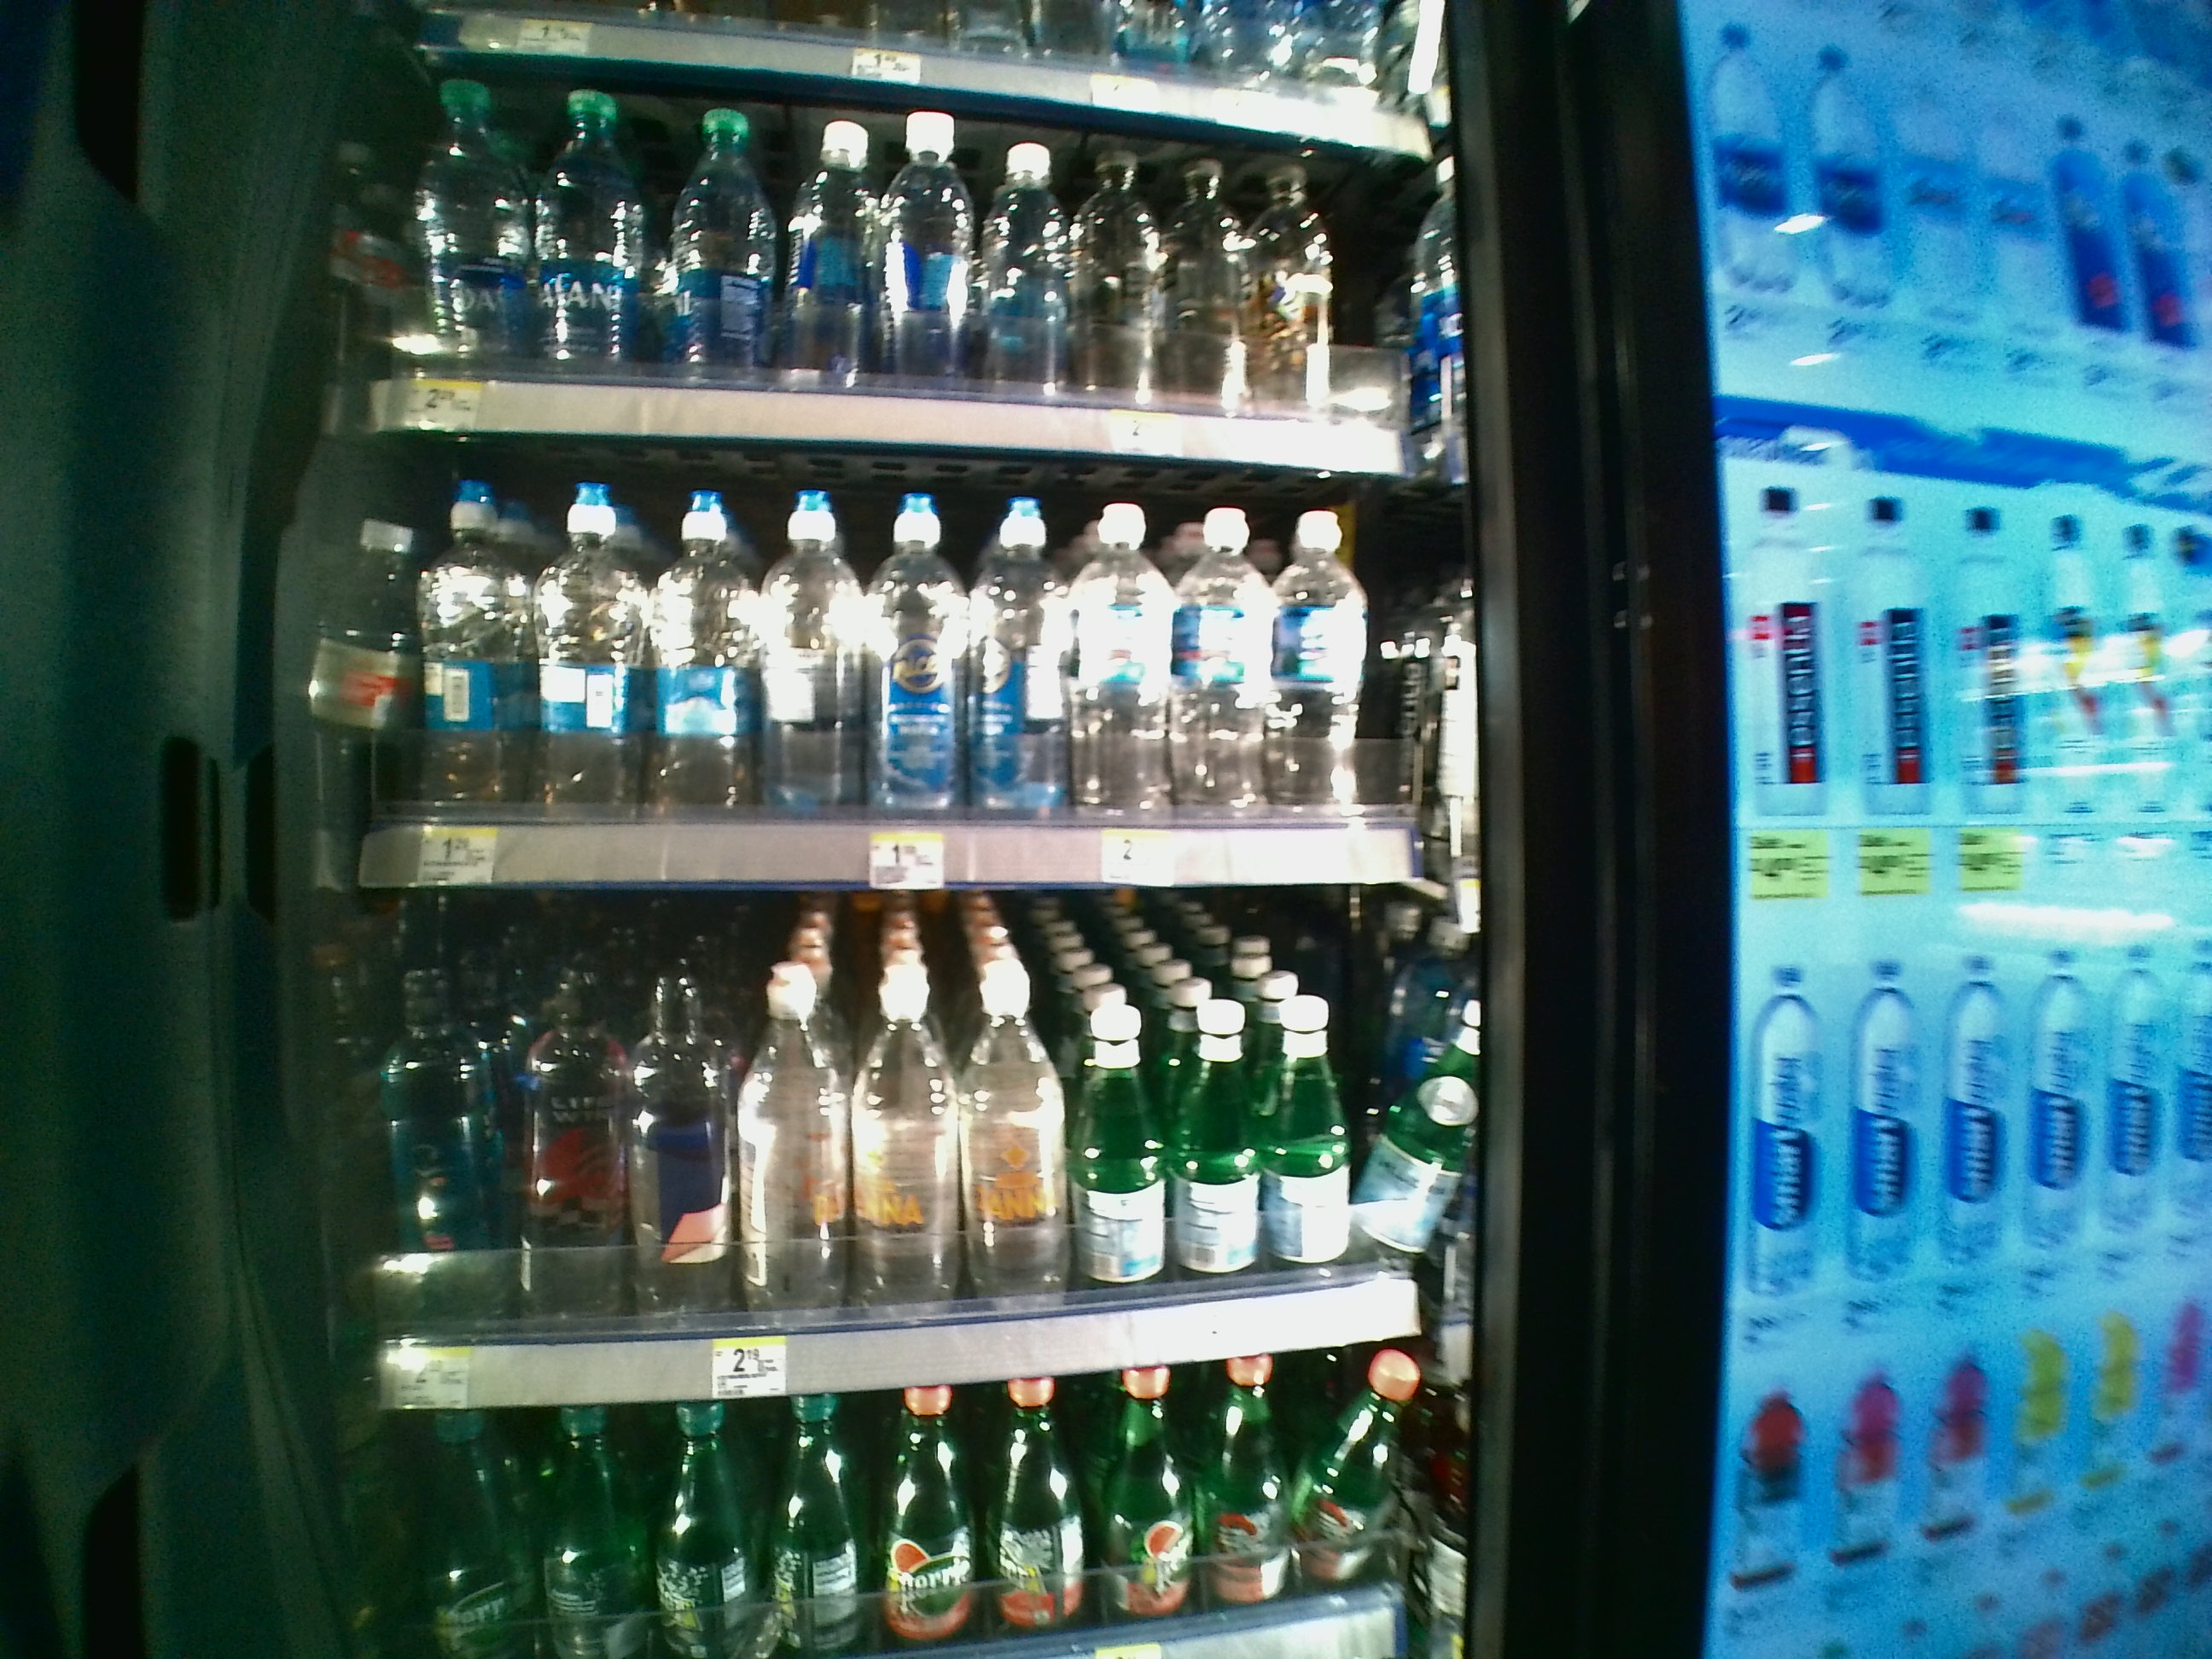Shelf: (301, 899, 1475, 1419), (298, 430, 1460, 899)
